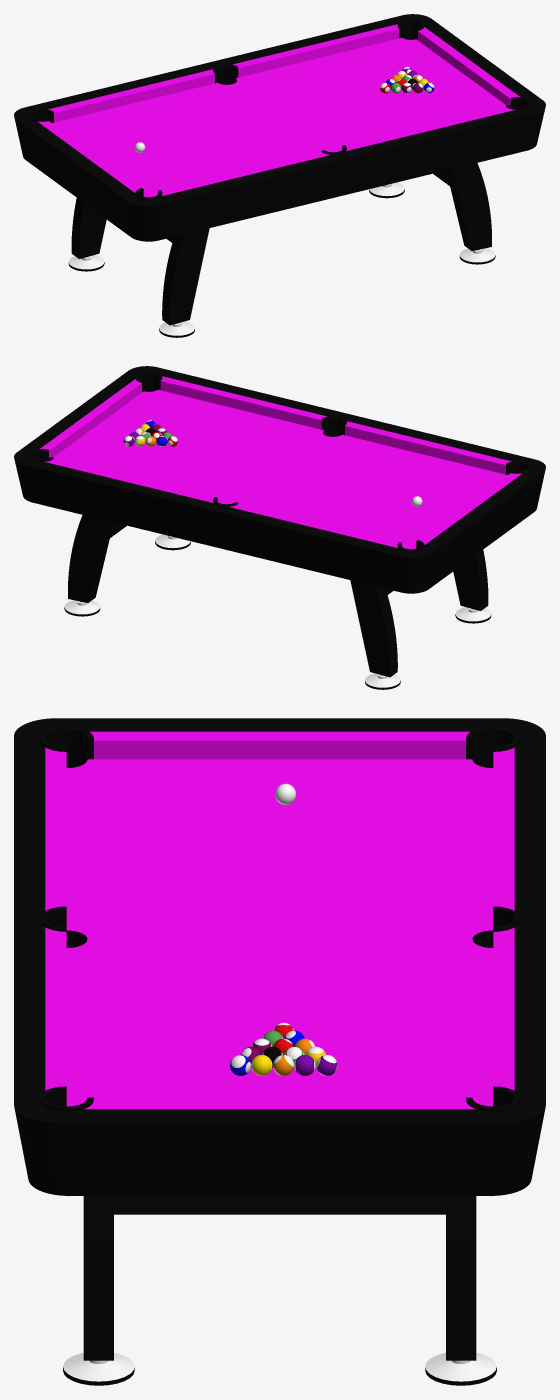
File: biliard.fbx
3 renders of one model, top to bottom at view 1: azimuth 30°, elevation 25°; view 2: azimuth 150°, elevation 25°; view 3: azimuth 270°, elevation 25°, orthographic. The views are drawn at different scales.
Visible parts, largest first — view 1: Mesh1 Group2 Group1 Model; view 2: Mesh1 Group2 Group1 Model; view 3: Mesh1 Group2 Group1 Model.
Boxes of the visible parts, box(x1,y1,x2,y2) form: Mesh1 Group2 Group1 Model: box(14, 14, 545, 337); Mesh1 Group2 Group1 Model: box(14, 366, 545, 689); Mesh1 Group2 Group1 Model: box(14, 718, 545, 1385).
Bounding box in the file's own units: 210 × 73.8 × 117.
